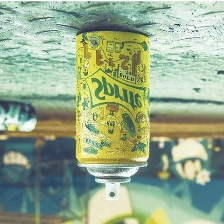aerosol_cans: (68, 25, 155, 204)
